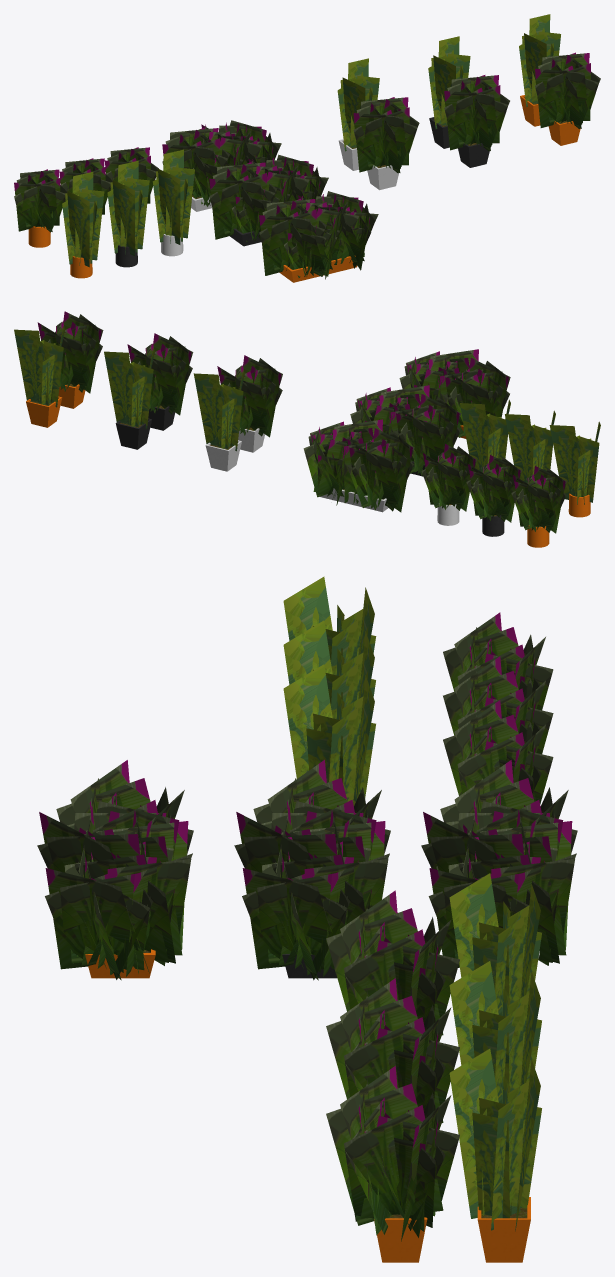
File: Plants_kit.fbx
3 renders of one model, top to bottom at view 1: azimuth 30°, elevation 25°; view 2: azimuth 150°, elevation 25°; view 3: azimuth 270°, elevation 25°, orthographic. The views are drawn at different scales.
Parts seen in each view (by area): view 1: Pot_8.001, Pot_7.001, Pot_3.001, Pot_13.001, Pot_14.001, Pot_12.001, Pot_11.001, Pot_10.001, Pot_9.001, Pot_2.001, Pot_5.001, Pot_6.001 (+14 smaller); view 2: Pot_3.001, Pot_7.001, Pot_8.001, Pot_13.001, Pot_12.001, Pot_14.001, Pot_4.001, Pot_5.001, Pot_6.001, Pot_11.001, Pot_2.001, Pot.001 (+14 smaller); view 3: Pot_8.001, Pot_7.001, Pot_3.001, Pot_14.001, Pot_6.001, Pot_13.001, Pot_12.001, Pot_9.001, Pot_4.001, Pot_5.001, Pot.001, Pot_2.001 (+6 smaller).
Boxes of the visible parts, <box> form: Pot_8.001: <box>259,191,378,279</box>; Pot_7.001: <box>209,154,328,241</box>; Pot_3.001: <box>162,120,281,206</box>; Pot_13.001: <box>444,75,509,151</box>; Pot_14.001: <box>535,52,600,128</box>; Pot_12.001: <box>353,97,419,173</box>; Pot_11.001: <box>62,172,104,267</box>; Pot_10.001: <box>107,160,149,255</box>; Pot_9.001: <box>152,149,194,244</box>; Pot_2.001: <box>14,169,68,232</box>; Pot_5.001: <box>428,36,470,128</box>; Pot_6.001: <box>519,14,560,106</box>; Pot_3.001: <box>303,419,414,512</box>; Pot_7.001: <box>350,385,461,476</box>; Pot_8.001: <box>399,349,510,437</box>; Pot_13.001: <box>127,333,193,415</box>; Pot_12.001: <box>217,355,282,437</box>; Pot_14.001: <box>37,311,103,393</box>; Pot_4.001: <box>193,370,244,451</box>; Pot_5.001: <box>104,348,154,429</box>; Pot_6.001: <box>14,326,65,407</box>; Pot_11.001: <box>549,421,600,504</box>; Pot_2.001: <box>511,466,566,533</box>; Pot.001: <box>421,444,476,511</box>; Pot_8.001: <box>37,760,193,980</box>; Pot_7.001: <box>234,759,390,980</box>; Pot_3.001: <box>421,760,577,967</box>; Pot_14.001: <box>326,1066,459,1241</box>; Pot_6.001: <box>449,1048,541,1231</box>; Pot_13.001: <box>326,978,459,1122</box>; Pot_12.001: <box>326,890,459,1035</box>; Pot_9.001: <box>283,664,375,806</box>; Pot_4.001: <box>449,873,541,1015</box>; Pot_5.001: <box>449,961,541,1103</box>; Pot.001: <box>443,700,553,804</box>; Pot_2.001: <box>443,612,553,710</box>.
Bounding box in the file's own units: 1224 × 207 × 521.
